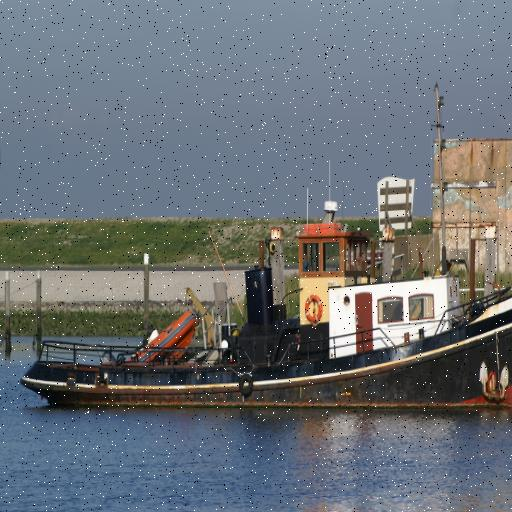tugboat: (18, 156, 512, 432)
